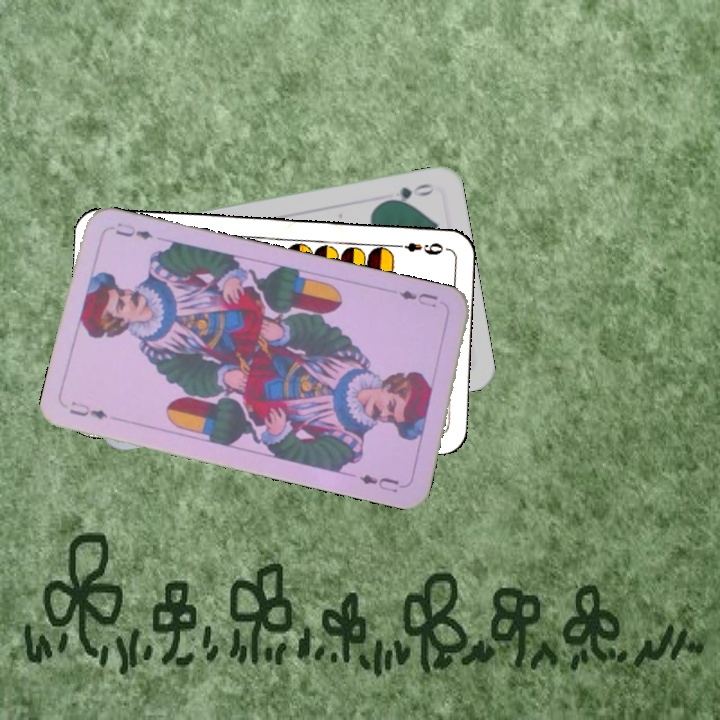E9: (389, 238, 446, 257)
EU: (65, 397, 110, 422), (394, 286, 440, 310)
GO: (379, 179, 438, 206)
